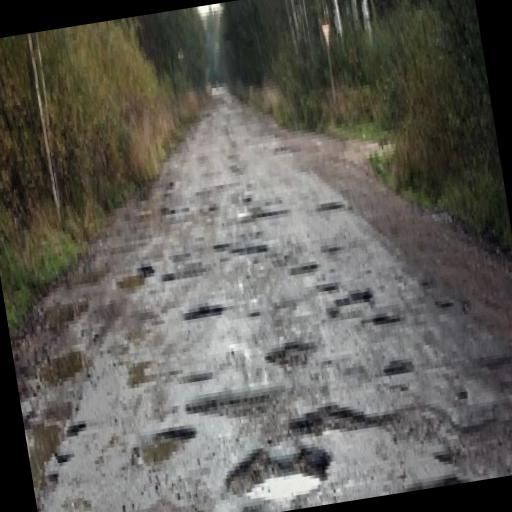pothole: (216, 434, 336, 510), (20, 399, 98, 511), (426, 403, 512, 483), (182, 380, 296, 425), (128, 420, 202, 474), (261, 337, 322, 370), (112, 262, 156, 292), (332, 283, 376, 313), (180, 300, 226, 324), (228, 233, 268, 260), (382, 354, 416, 382), (366, 307, 401, 333)
